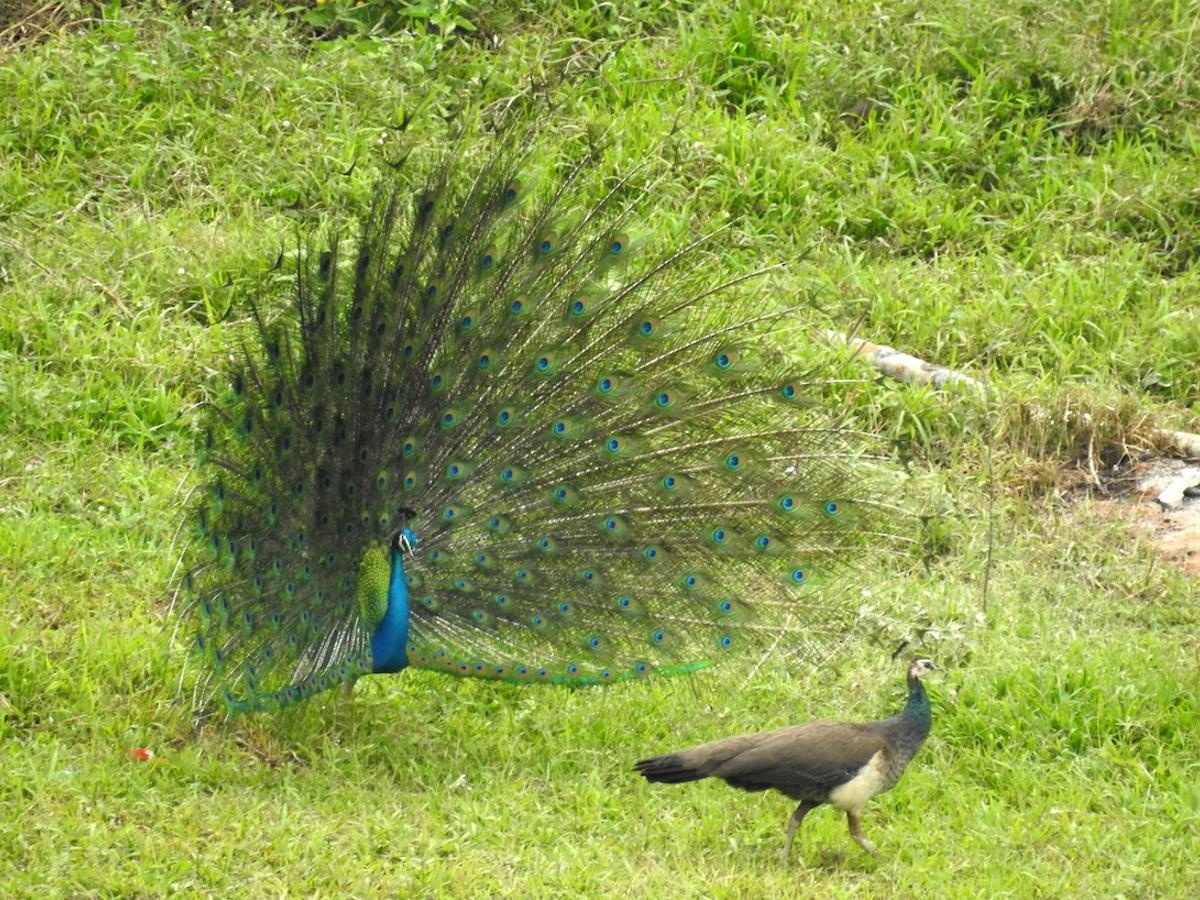peacock: (158, 157, 846, 718), (650, 633, 1019, 844)
